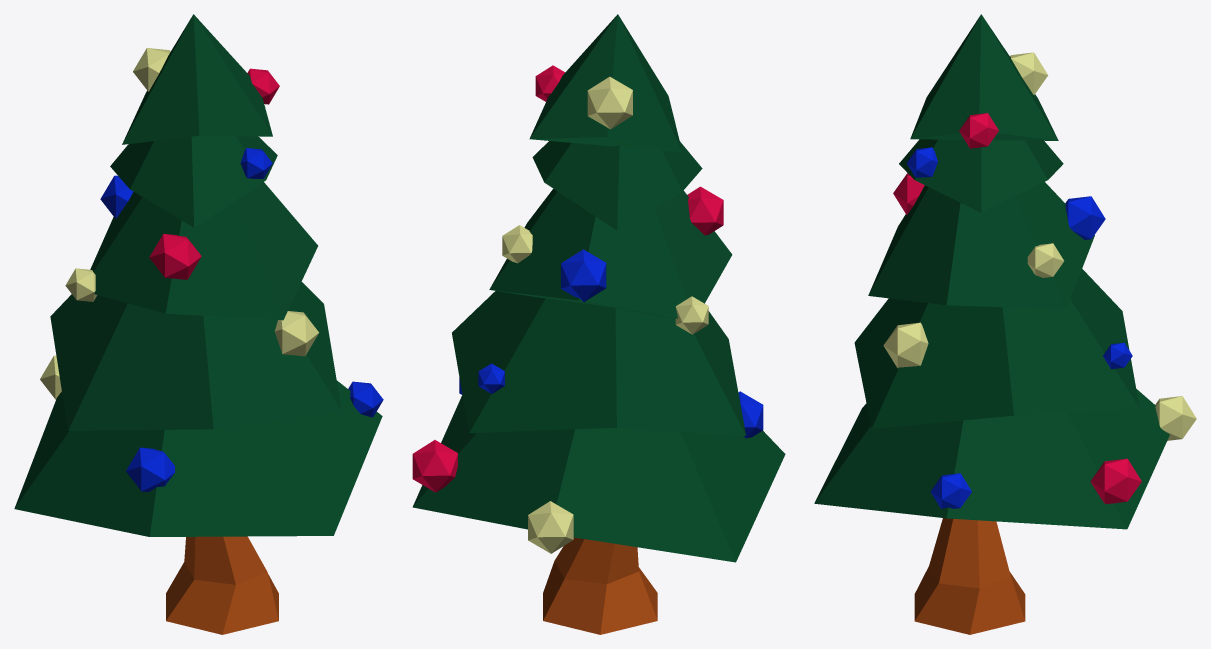
Rendered from Tree.fbx.
3 renders of one model, left to right at view 1: azimuth 30°, elevation 25°; view 2: azimuth 150°, elevation 25°; view 3: azimuth 270°, elevation 25°, orthographic. The views are drawn at different scales.
Parts seen in each view (by area): view 1: Tree; view 2: Tree; view 3: Tree.
Part boxes in pixels (x1,y1,x2,y2): Tree: [14, 14, 383, 634]; Tree: [412, 14, 785, 634]; Tree: [814, 14, 1196, 634].
Size of the model in its own units: 0.0564 by 0.1005 by 0.0598.
